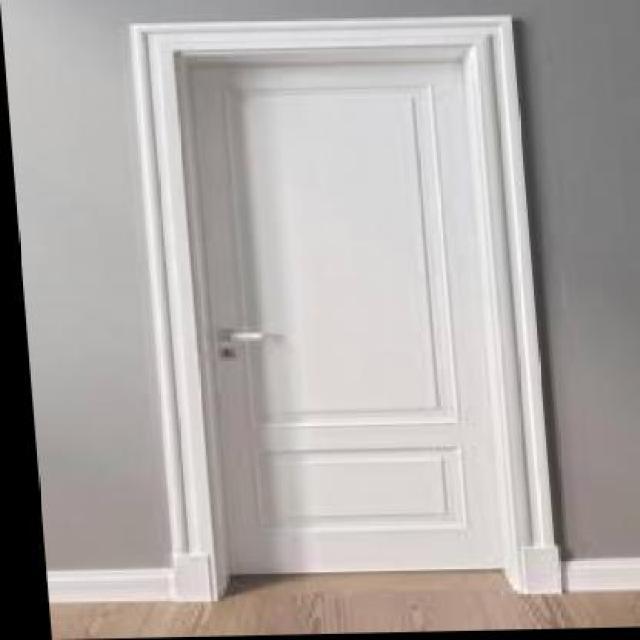door: (149, 12, 530, 601)
